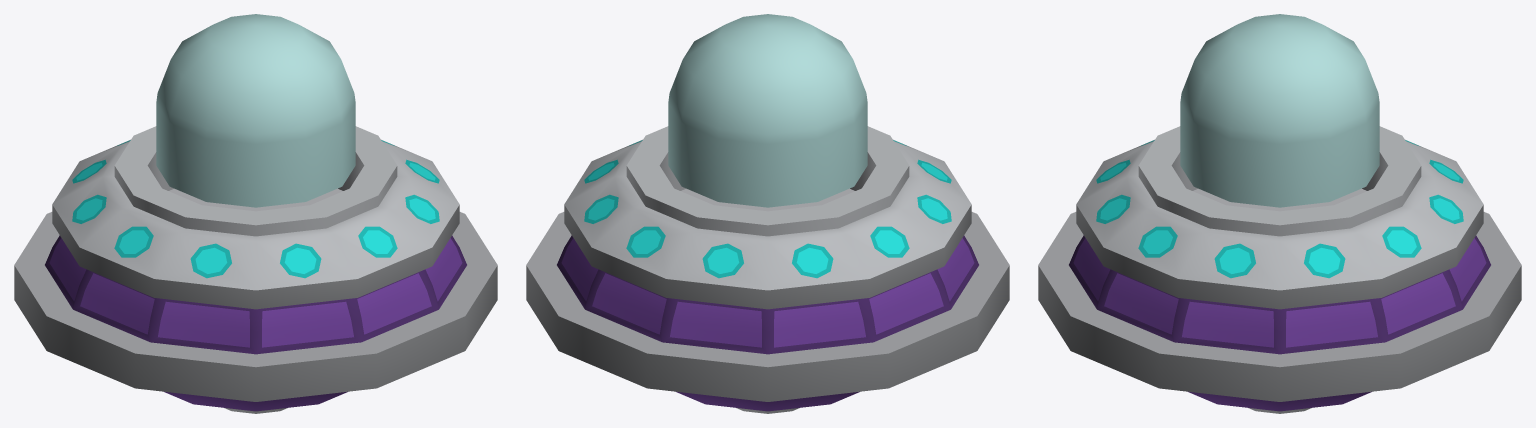
The model's file is Ship1.fbx.
3 renders of one model, left to right at view 1: azimuth 30°, elevation 25°; view 2: azimuth 150°, elevation 25°; view 3: azimuth 270°, elevation 25°, orthographic.
Visible parts, largest first — view 1: Circle; view 2: Circle; view 3: Circle.
Boxes of the visible parts, x1,y1,x2,y2 form: Circle: [14, 14, 497, 413]; Circle: [526, 14, 1009, 413]; Circle: [1038, 14, 1521, 413].
Bounding box in the file's own units: 200 × 171 × 200.
